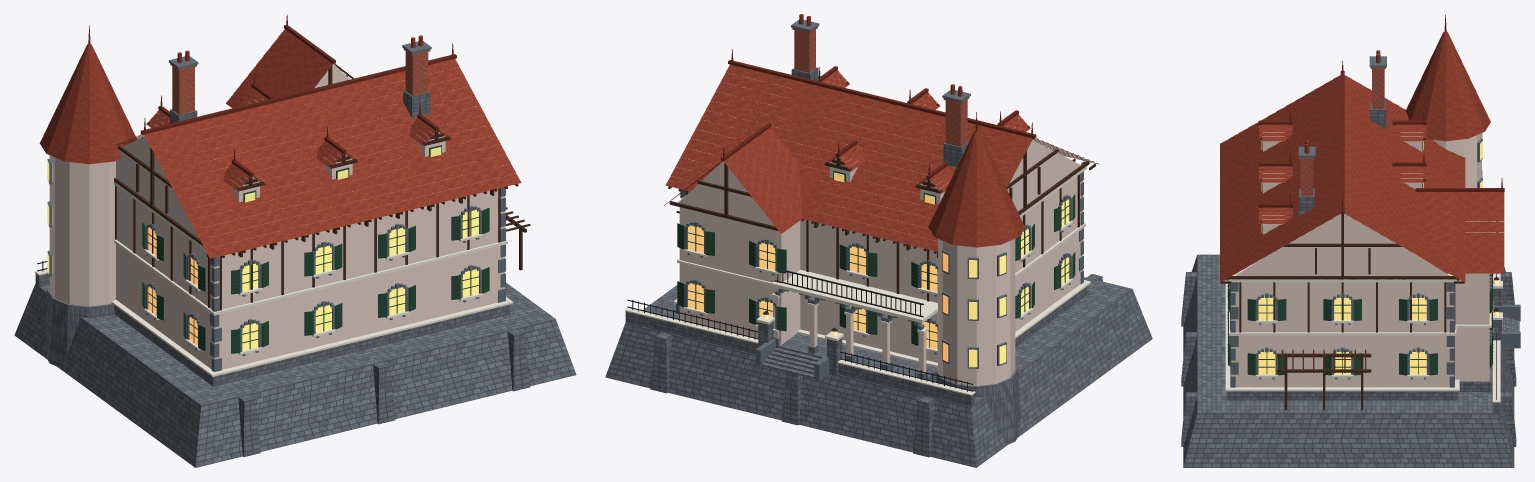
File: fv_yk_03_biet_dien_tran_le_xuan_hong_ngoc_villa.glb
3 renders of one model, left to right at view 1: azimuth 30°, elevation 25°; view 2: azimuth 150°, elevation 25°; view 3: azimuth 270°, elevation 25°, orthographic. The views are drawn at different scales.
Parts seen in each view (by area): view 1: Normandy_Brittany_Layered_Roof, Foundation_Skirt_Neg3p5m, Villa_Stucco_Walls, Molded_Cornices_And_Sills, PineGreen_Louvered_Shutters, Stone_Quoins_And_Arches, Exposed_Timber_Trusses_And_Rafters, Warm_Night_Windows_20h00_Blend, Roof_Ridges_Caps_And_Finials, Brick_Chimney_Stacks; view 2: Foundation_Skirt_Neg3p5m, Normandy_Brittany_Layered_Roof, Villa_Stucco_Walls, Molded_Cornices_And_Sills, Stone_Quoins_And_Arches, Warm_Night_Windows_20h00_Blend, PineGreen_Louvered_Shutters, Exposed_Timber_Trusses_And_Rafters, Roof_Ridges_Caps_And_Finials, Wrought_Iron_Balustrades_And_Gate, Brick_Chimney_Stacks; view 3: Normandy_Brittany_Layered_Roof, Foundation_Skirt_Neg3p5m, Villa_Stucco_Walls, Molded_Cornices_And_Sills, Exposed_Timber_Trusses_And_Rafters, Stone_Quoins_And_Arches, PineGreen_Louvered_Shutters, Warm_Night_Windows_20h00_Blend, Roof_Ridges_Caps_And_Finials, Brick_Chimney_Stacks.
Boxes of the visible parts, x1,y1,x2,y2 form: Normandy_Brittany_Layered_Roof: (39,29,521,258); Foundation_Skirt_Neg3p5m: (14,90,576,467); Villa_Stucco_Walls: (49,64,504,369); Molded_Cornices_And_Sills: (34,95,513,376); PineGreen_Louvered_Shutters: (142,145,489,353); Stone_Quoins_And_Arches: (47,41,505,371); Exposed_Timber_Trusses_And_Rafters: (114,66,530,310); Warm_Night_Windows_20h00_Blend: (47,147,478,350); Roof_Ridges_Caps_And_Finials: (88,14,456,184); Brick_Chimney_Stacks: (170,48,430,114); Foundation_Skirt_Neg3p5m: (605,67,1152,467); Normandy_Brittany_Layered_Roof: (665,14,1033,251); Villa_Stucco_Walls: (678,97,1082,385); Molded_Cornices_And_Sills: (625,81,1090,395); Stone_Quoins_And_Arches: (680,19,1083,380); Warm_Night_Windows_20h00_Blend: (688,172,1069,367); PineGreen_Louvered_Shutters: (677,170,1075,347); Exposed_Timber_Trusses_And_Rafters: (668,70,1095,301); Roof_Ridges_Caps_And_Finials: (664,49,1098,205); Wrought_Iron_Balustrades_And_Gate: (627,270,973,391); Brick_Chimney_Stacks: (792,27,969,146); Normandy_Brittany_Layered_Roof: (1220,31,1504,282); Foundation_Skirt_Neg3p5m: (1181,101,1519,467); Villa_Stucco_Walls: (1231,133,1489,387); Molded_Cornices_And_Sills: (1225,132,1502,402); Exposed_Timber_Trusses_And_Rafters: (1220,124,1498,409); Stone_Quoins_And_Arches: (1228,56,1520,387); PineGreen_Louvered_Shutters: (1227,142,1493,375); Warm_Night_Windows_20h00_Blend: (1258,141,1498,374); Roof_Ridges_Caps_And_Finials: (1258,14,1504,213); Brick_Chimney_Stacks: (1299,67,1385,196).
Size of the model in its own units: 26.91 by 21.43 by 21.93.
Materials: 12 (3 with a texture image).
